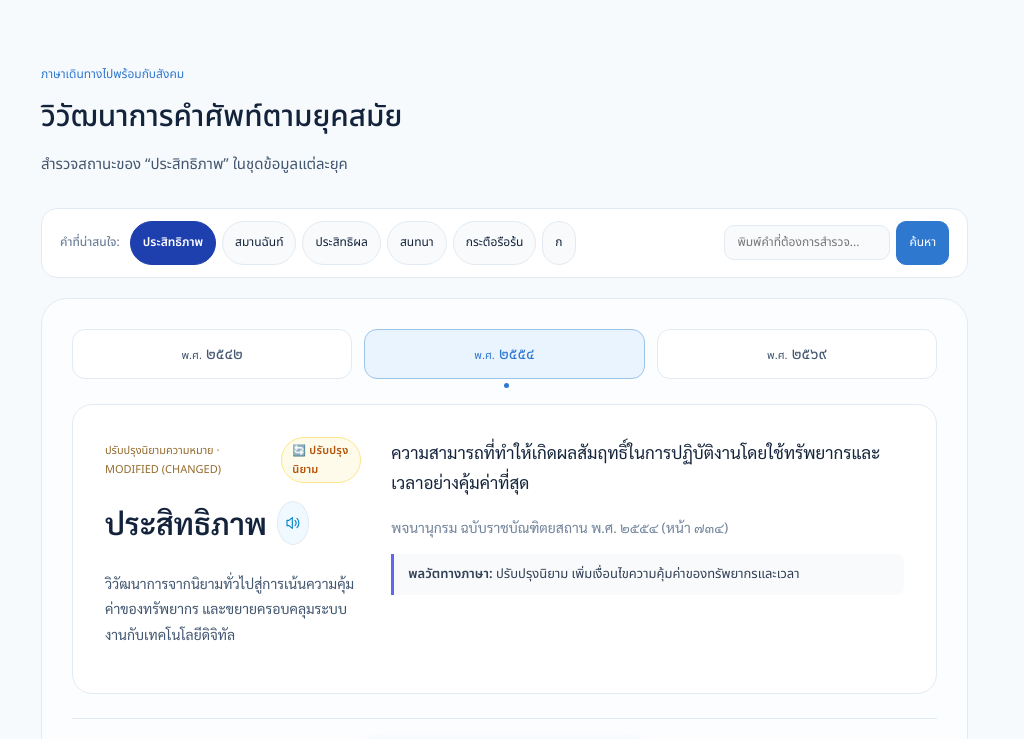
Test: EvolutionExplorer Component › allows switching words via quick-pick chips
Click the button "สมานฉันท์": (259, 243) [222,221,296,265]
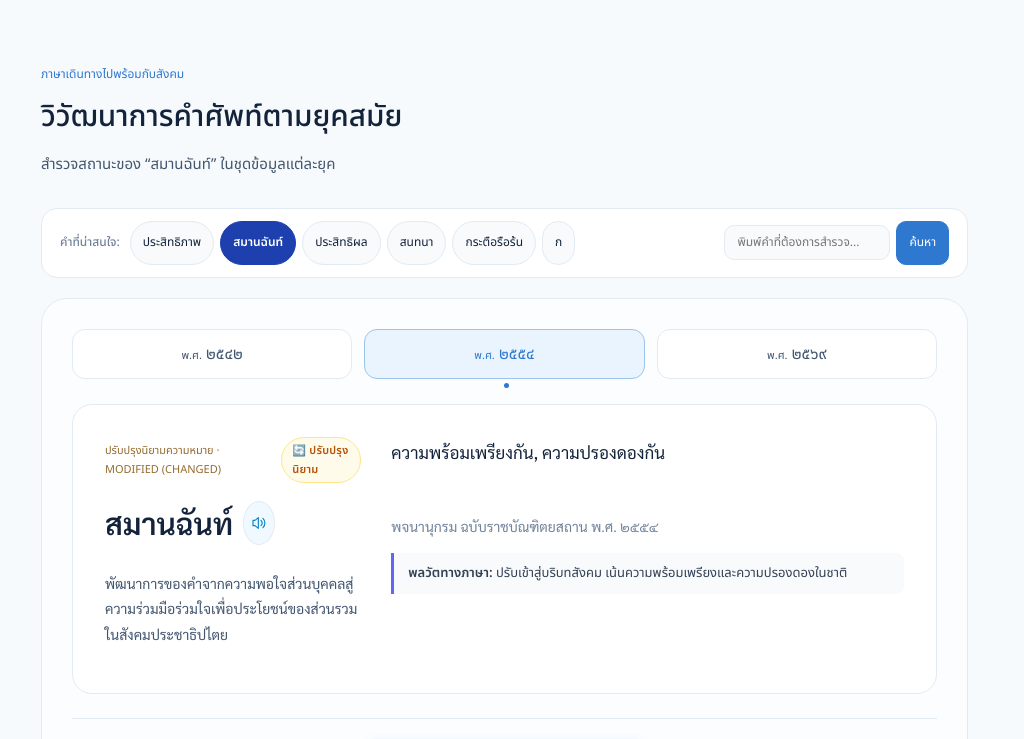
Check: the text "สำรวจสถานะของ “สมานฉันท์” ในชุดข้อมูลแต่ละยุค" is shown, box [41,152,335,176]
Check: the heading "สมานฉันท์" is shown, box [105,499,233,547]
Click the tab "พ.ศ. ๒๕๔๒": (212, 354) [72,329,352,379]
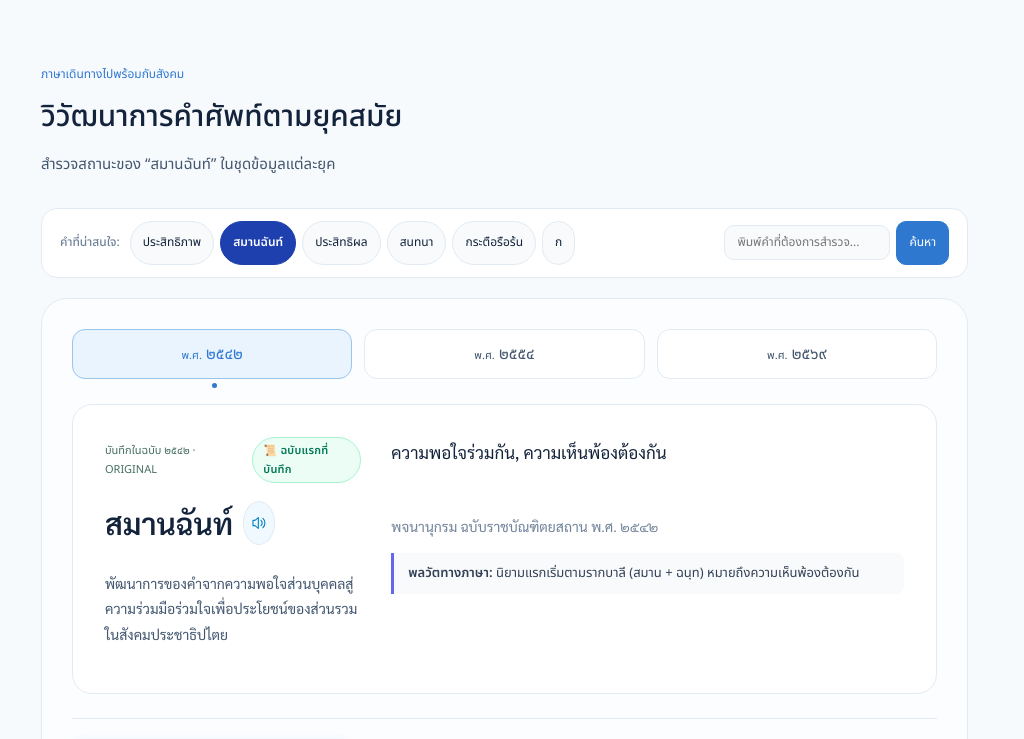
Check: the text "ความพอใจร่วมกัน, ความเห็นพ้องต้องกัน" is shown, box [391,441,667,463]
Click the tab "พ.ศ. ๒๕๖๙": (797, 354) [657,329,937,379]
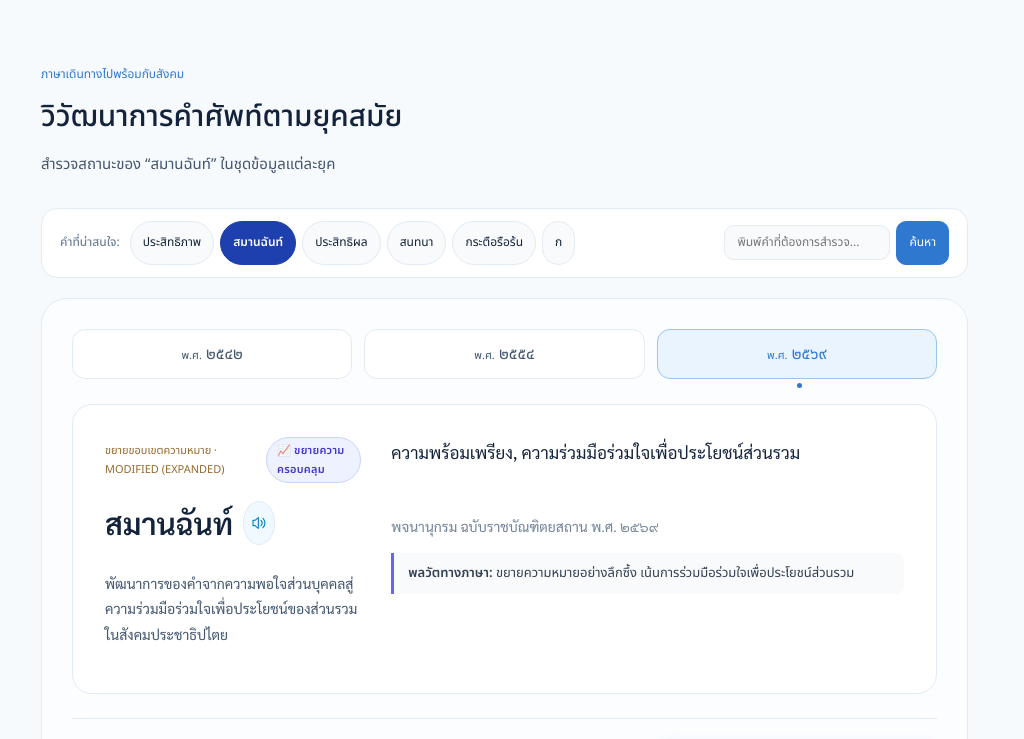
Check: the text "ความพร้อมเพรียง, ความร่วมมือร่วมใจเพื่อประโยชน์ส่วนรวม" is shown, box [391,441,800,463]
